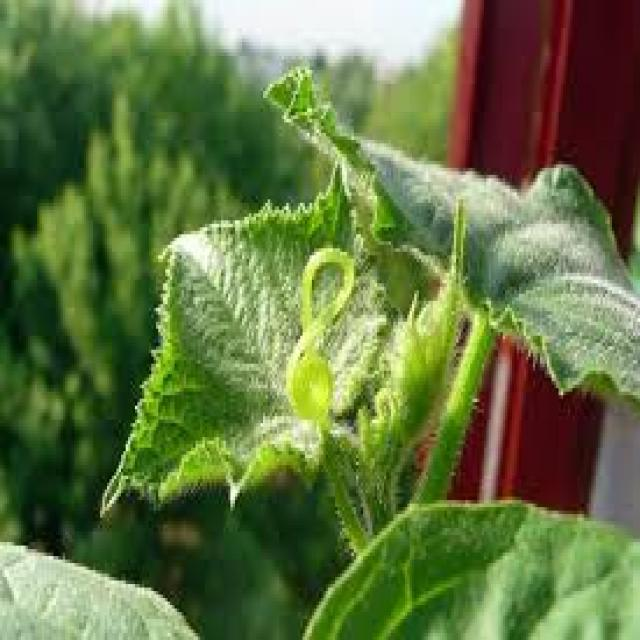powdery-mildew: (521, 192, 629, 346), (178, 234, 264, 336)
